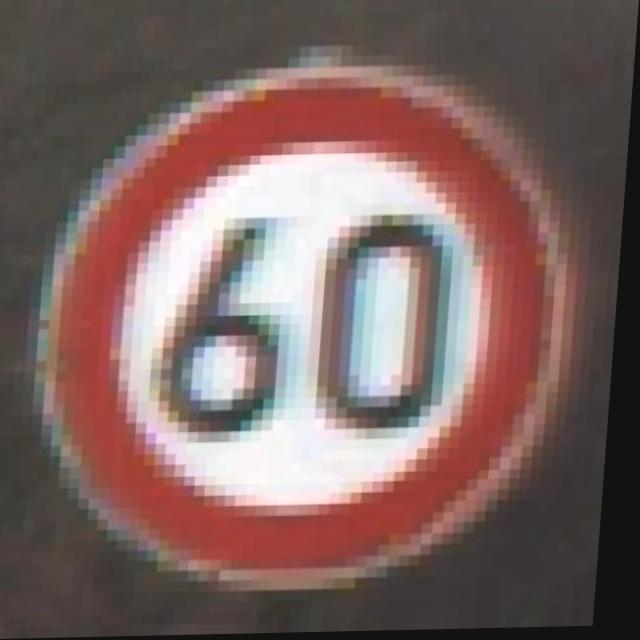limit60: (18, 53, 613, 604)
